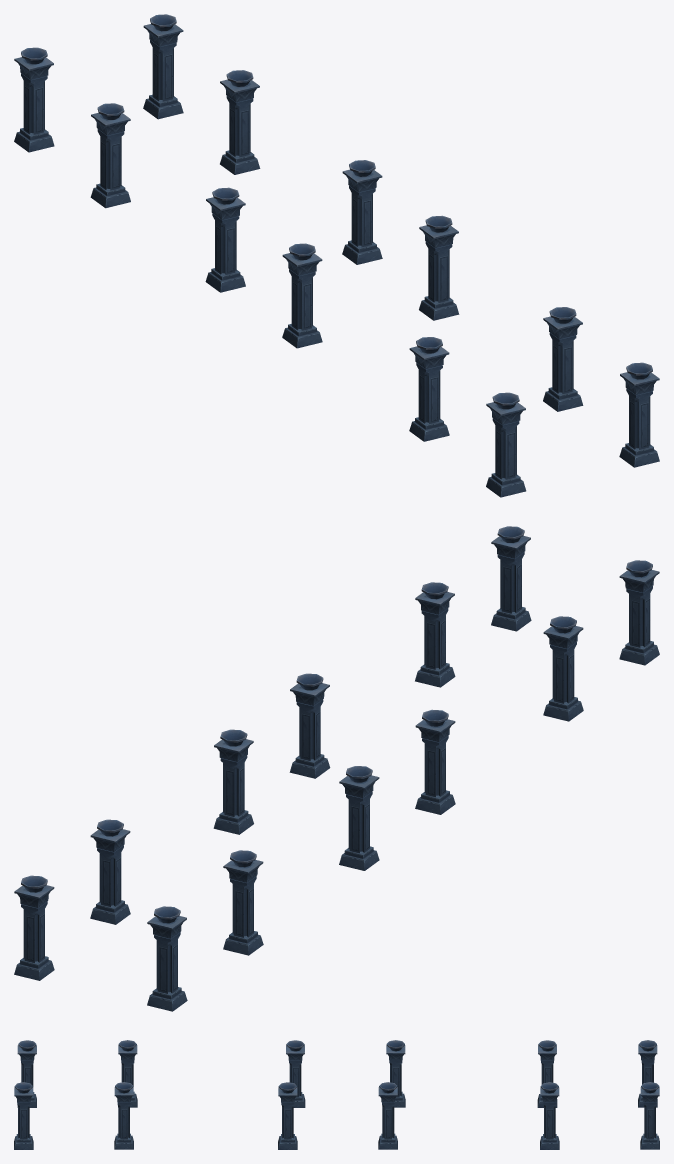
Rendered from xiaowujian_group13.fbx.
3 renders of one model, top to bottom at view 1: azimuth 30°, elevation 25°; view 2: azimuth 150°, elevation 25°; view 3: azimuth 270°, elevation 25°, orthographic. The views are drawn at different scales.
Visible parts, largest first — view 1: xiaowujian_group13; view 2: xiaowujian_group13; view 3: xiaowujian_group13.
Part boxes in pixels (bbox=[...]): xiaowujian_group13: bbox=[14, 14, 659, 497]; xiaowujian_group13: bbox=[14, 526, 659, 1011]; xiaowujian_group13: bbox=[14, 1040, 659, 1149].
Bounding box in the file's own units: 939 × 519 × 5088.
1 material, 1 textured.
